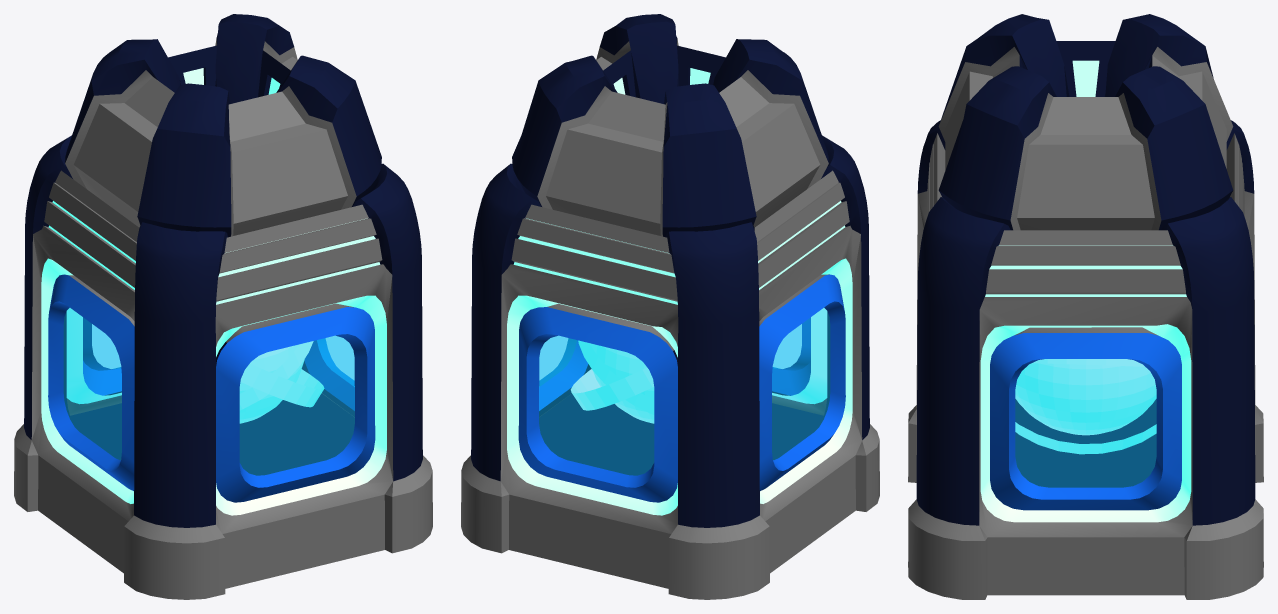
The model's file is bomba kule 1.fbx.
3 renders of one model, left to right at view 1: azimuth 30°, elevation 25°; view 2: azimuth 150°, elevation 25°; view 3: azimuth 270°, elevation 25°, orthographic. The views are drawn at different scales.
Visible parts, largest first — view 1: Cube.008; view 2: Cube.008; view 3: Cube.008.
Part boxes in pixels (x1,y1,x2,y2): Cube.008: (14,14,432,599); Cube.008: (461,14,879,599); Cube.008: (908,14,1263,599).
Bounding box in the file's own units: 224 × 332 × 224.
